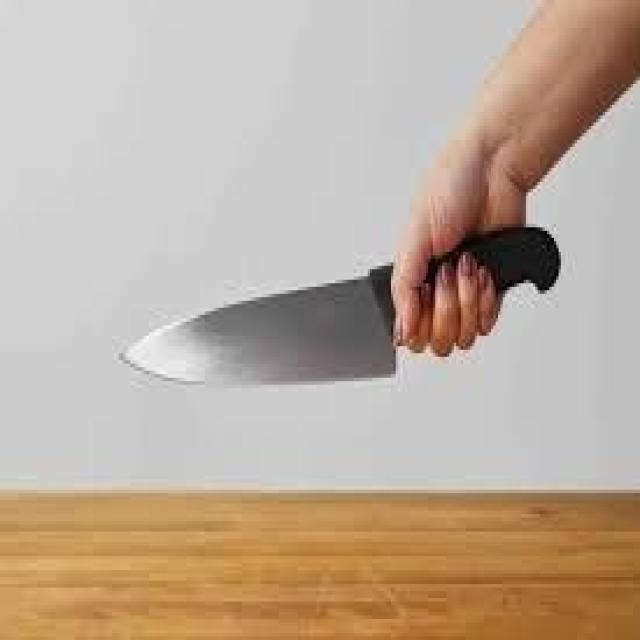senjata_tajam: (115, 259, 398, 384)
